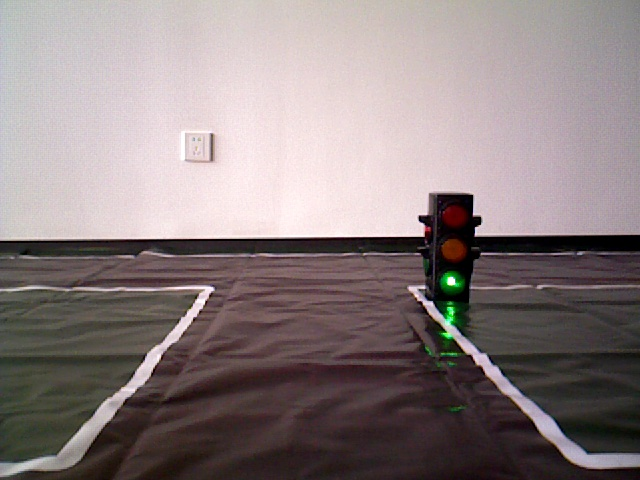green: (427, 201, 474, 297)
